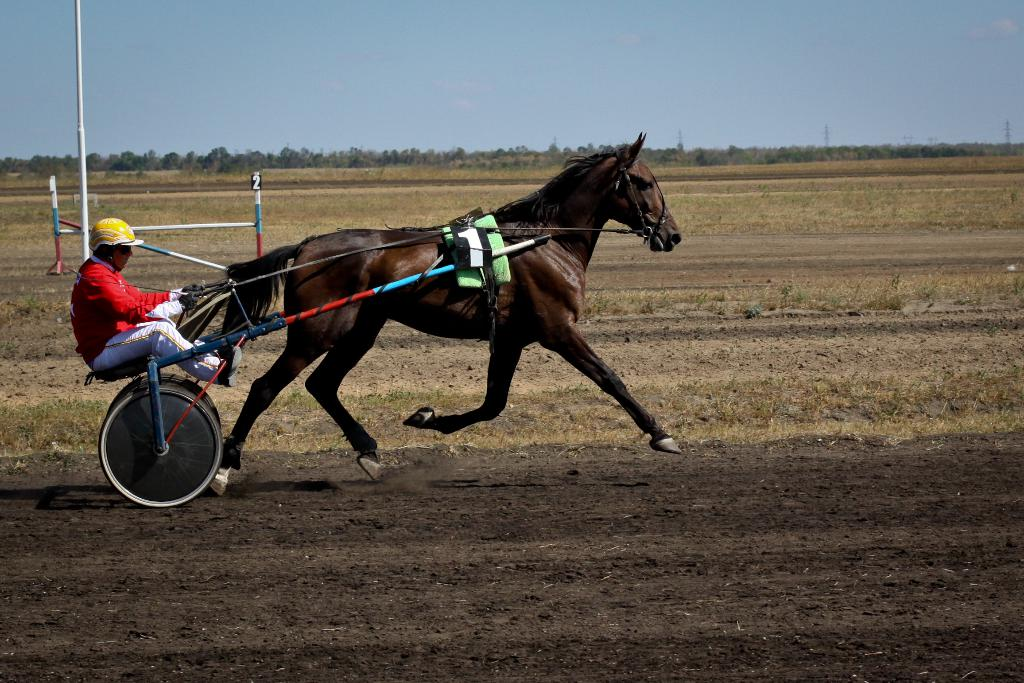Person: (70, 217, 241, 386)
